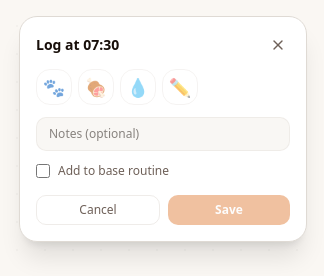
Save button enables after selecting a type
Click the button named "Walk" at (54, 87), box [36,69,72,105]
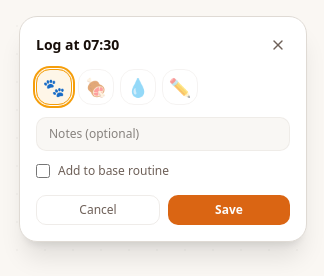
Expected: the button "Save" is enabled, [168,195,290,225]
